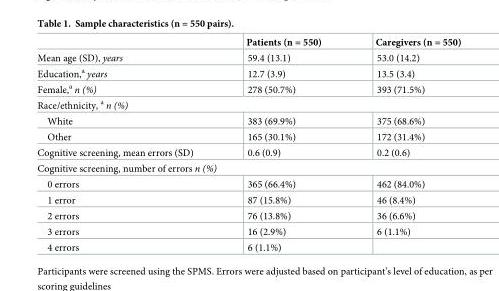table: (36, 37, 460, 252)
table column: (36, 37, 219, 252), (219, 37, 347, 252), (347, 37, 460, 252)
table column header: (36, 37, 460, 49)
table projected row header: (36, 96, 460, 113), (36, 159, 460, 176)
table row: (36, 96, 460, 113), (36, 159, 460, 176), (36, 49, 460, 65), (36, 65, 460, 81), (36, 128, 460, 144), (36, 191, 460, 207), (36, 207, 460, 223), (36, 223, 460, 239), (36, 81, 460, 96), (36, 113, 460, 128), (36, 144, 460, 159), (36, 176, 460, 191), (36, 239, 460, 252), (36, 37, 460, 49)
